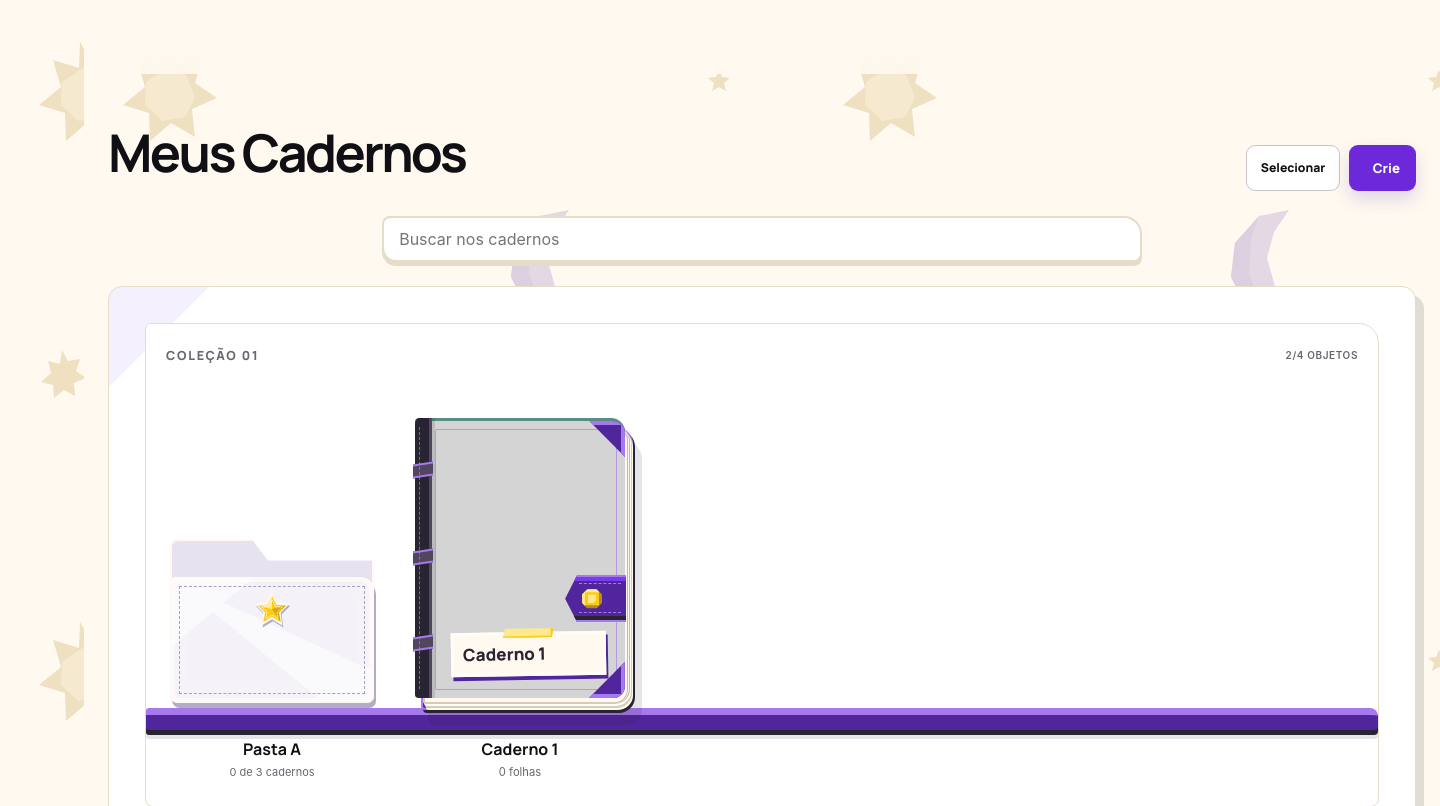
Test: mover cadernos para pasta pelo teclado, sem arrastar › move o caderno selecionado para a pasta escolhida
Click the button "Selecionar". click: [1293, 168]
box: [1246, 145, 1340, 191]
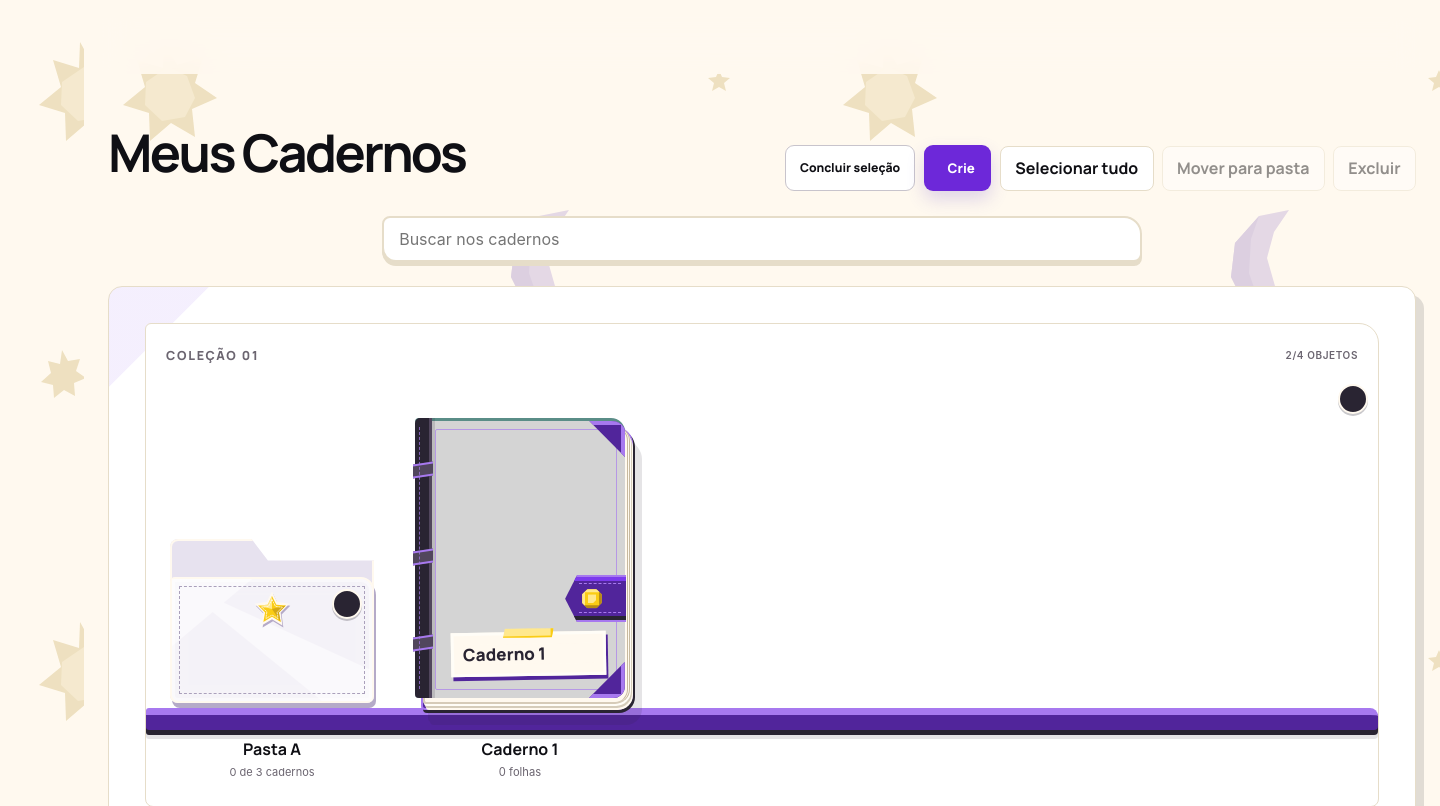
Click the button with aria-label "Abrir Caderno 1". click: [520, 593]
box: [410, 398, 630, 788]
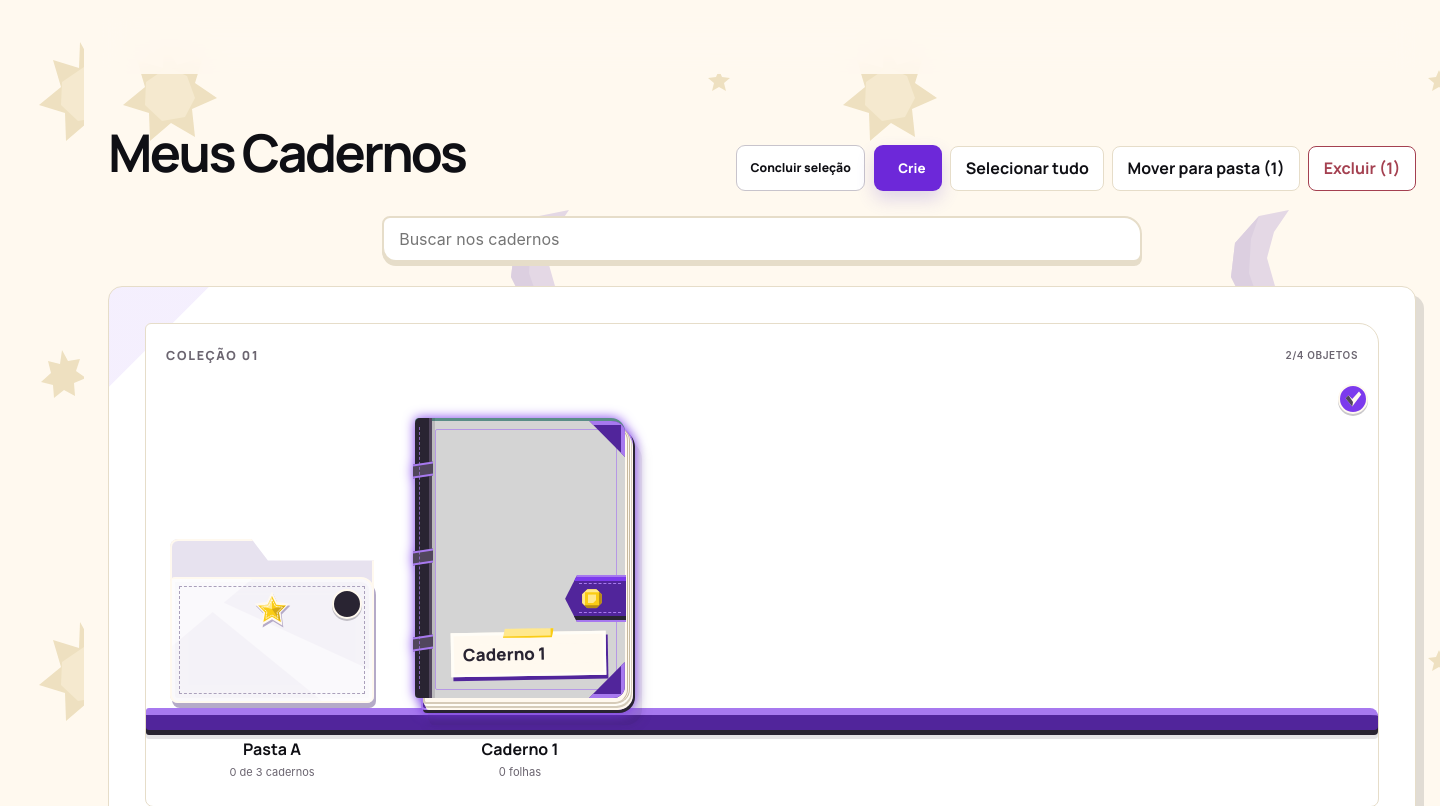
Click the button "Mover para pasta (1)". click: [1206, 168]
box: [1112, 146, 1300, 191]
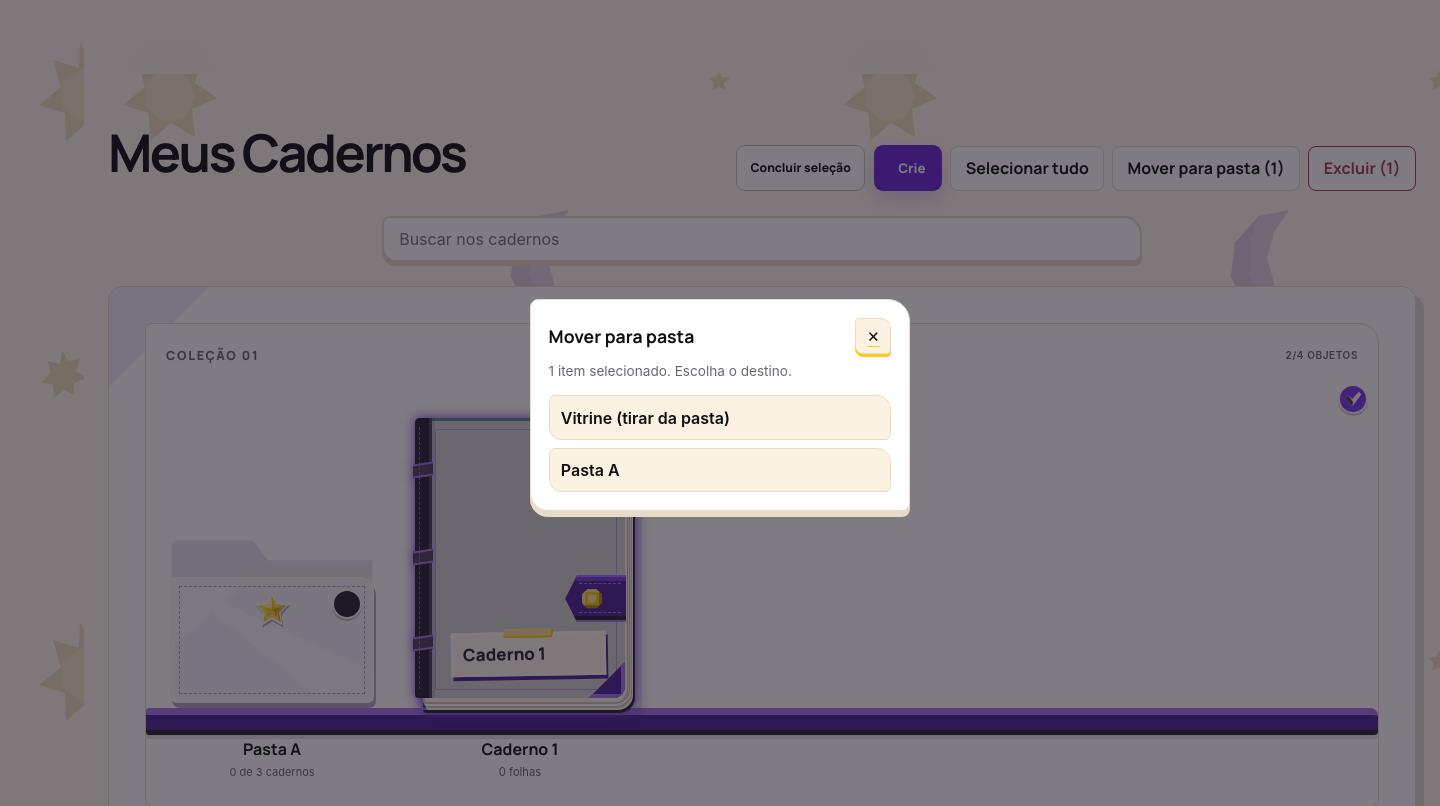
Click the button "Pasta A". click: [590, 470]
box: [549, 448, 891, 492]
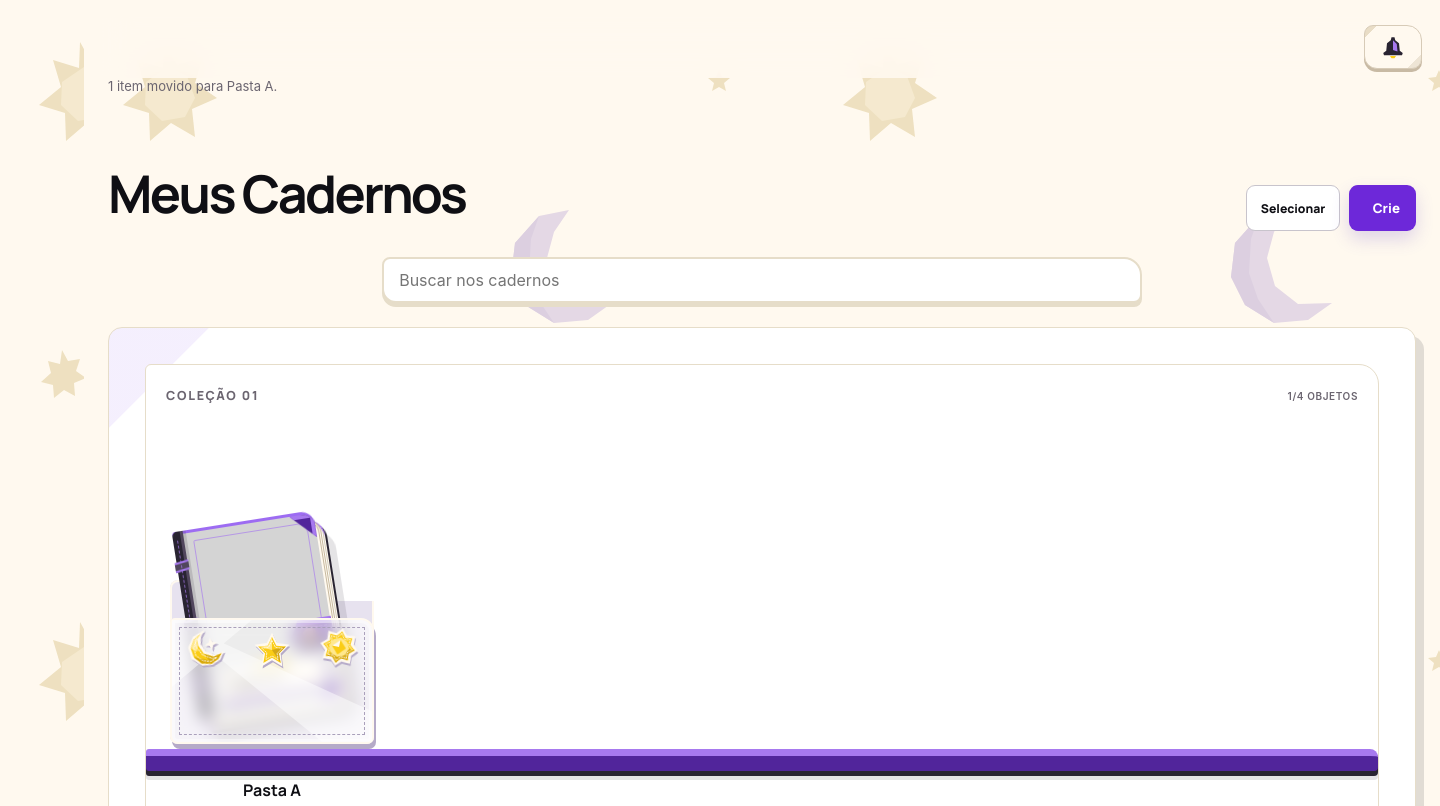
Check: the text "1 item movido para Pasta A." is shown, box [108, 78, 277, 94]
